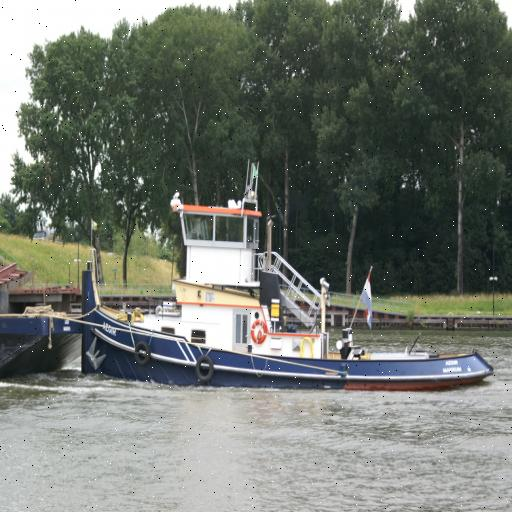tugboat: (80, 157, 497, 401)
